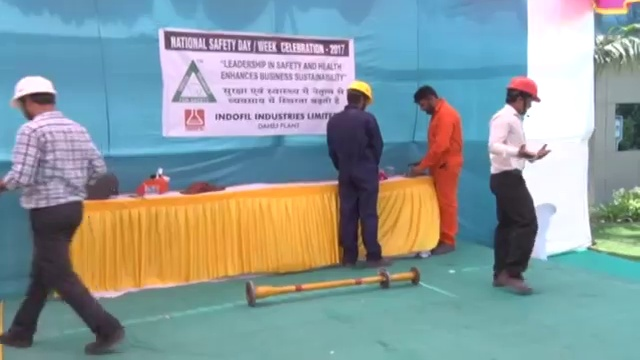helmet: (9, 73, 59, 107), (506, 74, 543, 102), (347, 78, 374, 104)
helmet_off: (413, 85, 441, 114)
helmet_on: (7, 72, 59, 123), (503, 73, 545, 119), (343, 78, 374, 115)
person: (1, 71, 125, 356), (486, 72, 552, 298), (326, 77, 394, 269), (412, 85, 458, 255)
